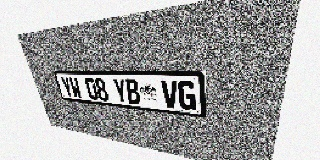0: (84, 78, 99, 100)
8: (94, 78, 109, 101)
B: (124, 79, 141, 105)
G: (178, 80, 196, 111)
V: (161, 80, 179, 109)
W: (68, 77, 83, 99)
Y: (112, 78, 128, 103), (60, 77, 74, 98)
